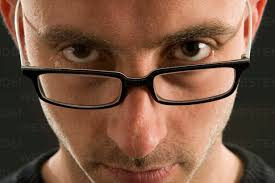Glasses: (12, 52, 260, 117)
